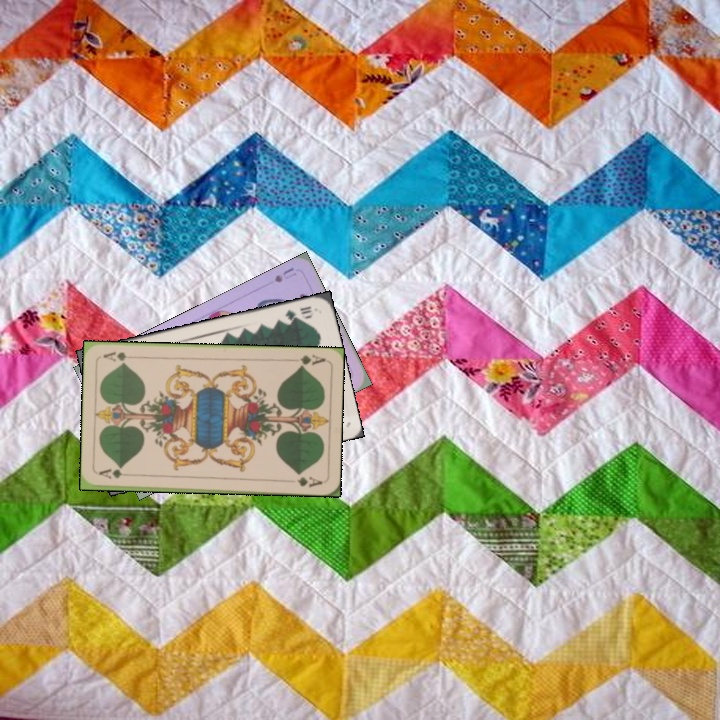G10: (281, 302, 316, 324)
GA: (287, 350, 327, 370), (95, 466, 136, 481)
SU: (270, 263, 299, 285)
